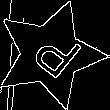P_SW: (18, 23, 81, 86)
